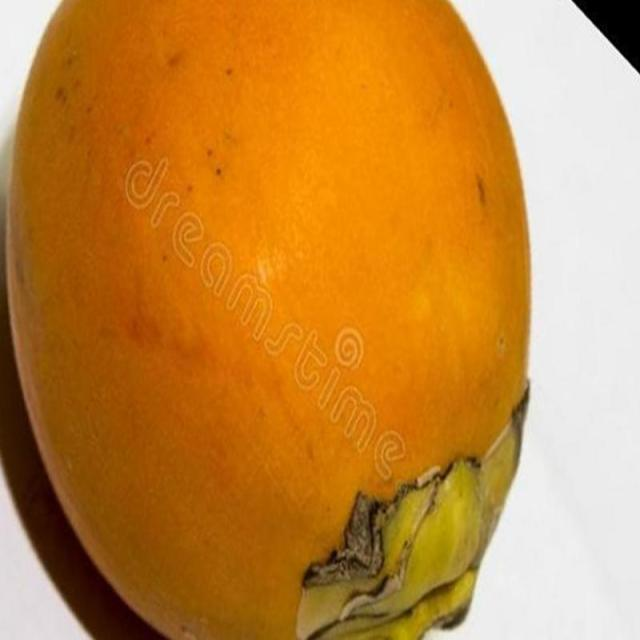good: (2, 0, 533, 639)
